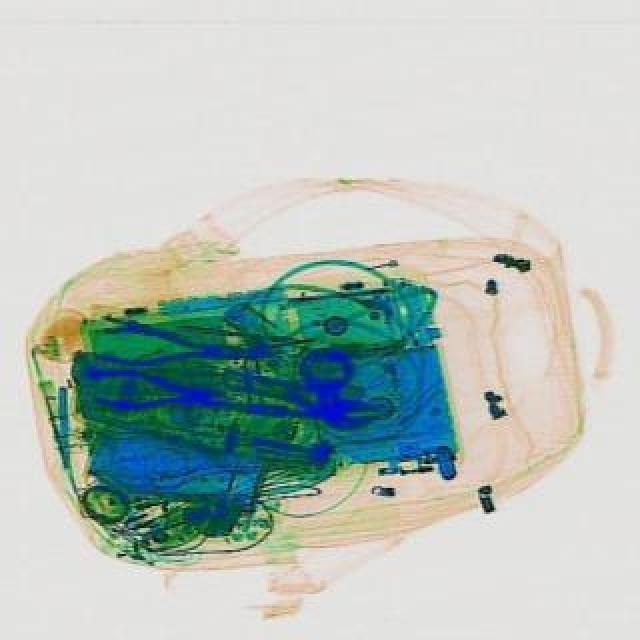scissors: (258, 380, 380, 434)
wrench: (96, 320, 262, 372), (76, 366, 228, 420)
